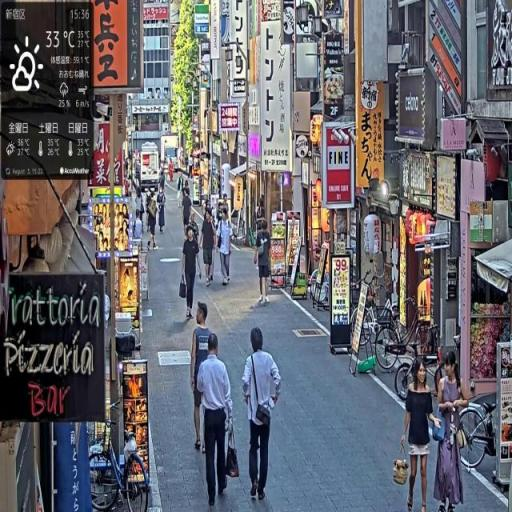person: (397, 356, 447, 512), (196, 331, 238, 509), (243, 326, 283, 503), (431, 352, 472, 512), (191, 304, 215, 452), (181, 224, 202, 322), (254, 219, 274, 306), (216, 208, 235, 289), (201, 207, 217, 287)
